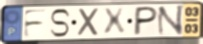F: (22, 8, 49, 39)
N: (156, 3, 186, 37)
P: (131, 5, 160, 37)
S: (48, 8, 72, 39)
X: (101, 7, 127, 38), (77, 7, 102, 38)
